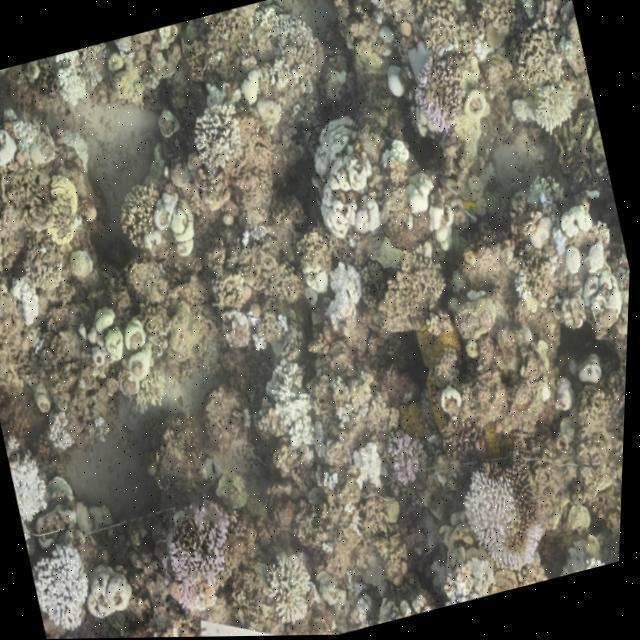Bleached Coral: (365, 111, 472, 284), (530, 195, 635, 355), (288, 103, 391, 251), (448, 461, 561, 584), (250, 344, 333, 470), (29, 537, 108, 640), (253, 540, 334, 635), (174, 99, 261, 180), (8, 442, 68, 532), (312, 258, 380, 334), (523, 68, 585, 142), (0, 255, 56, 333), (342, 434, 395, 491)
